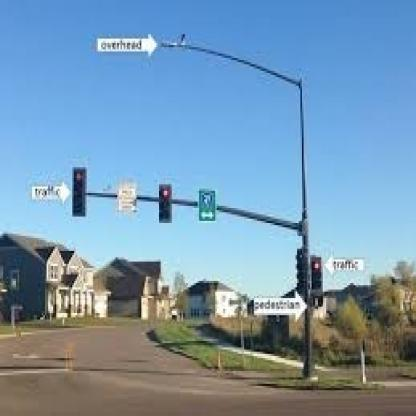Traffic Signal: (158, 186, 174, 222), (311, 256, 324, 290)
